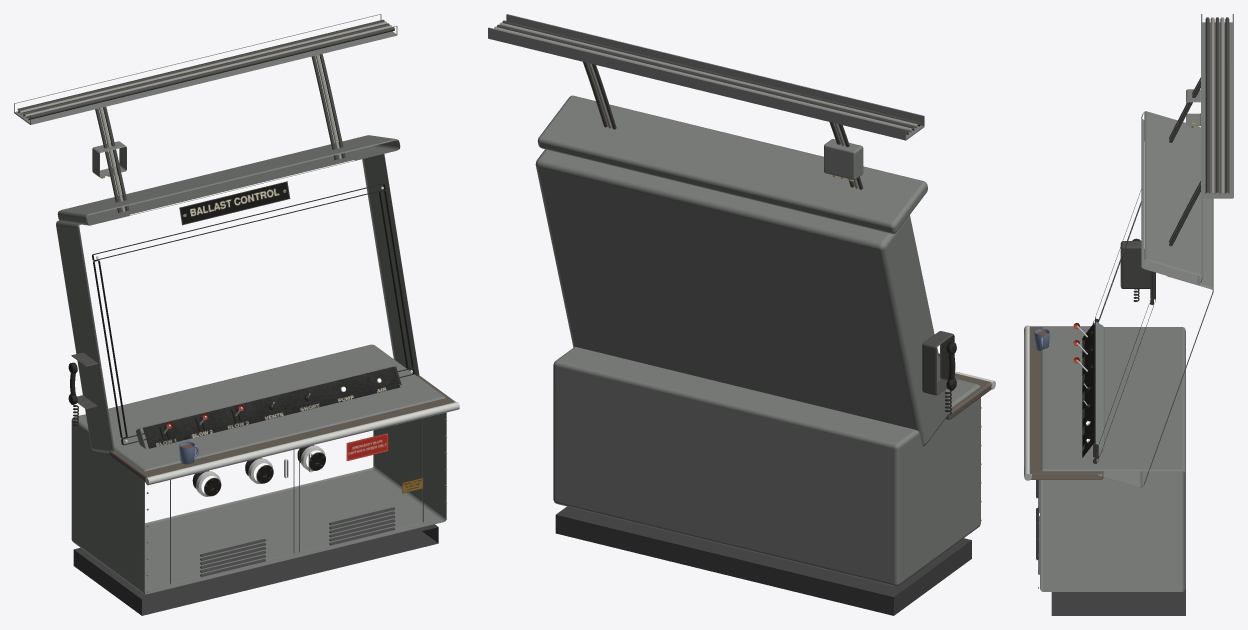
File: ballast_control.glb
3 renders of one model, left to right at view 1: azimuth 30°, elevation 25°; view 2: azimuth 150°, elevation 25°; view 3: azimuth 270°, elevation 25°, orthographic. The views are drawn at different scales.
Visible parts, largest first — view 1: body; view 2: body; view 3: body.
Boxes of the visible parts, box(x1,y1,x2,y2) form: body: box(14, 14, 459, 615); body: box(488, 14, 995, 615); body: box(1024, 14, 1233, 615).
Bounding box in the file's own units: 2.1 × 2.48 × 1.06.
Materials: 13 (7 with a texture image).
